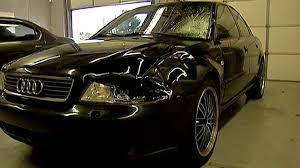Fender: (142, 43, 214, 105)
Light: (81, 81, 169, 103)
Windshield: (165, 3, 214, 36)
